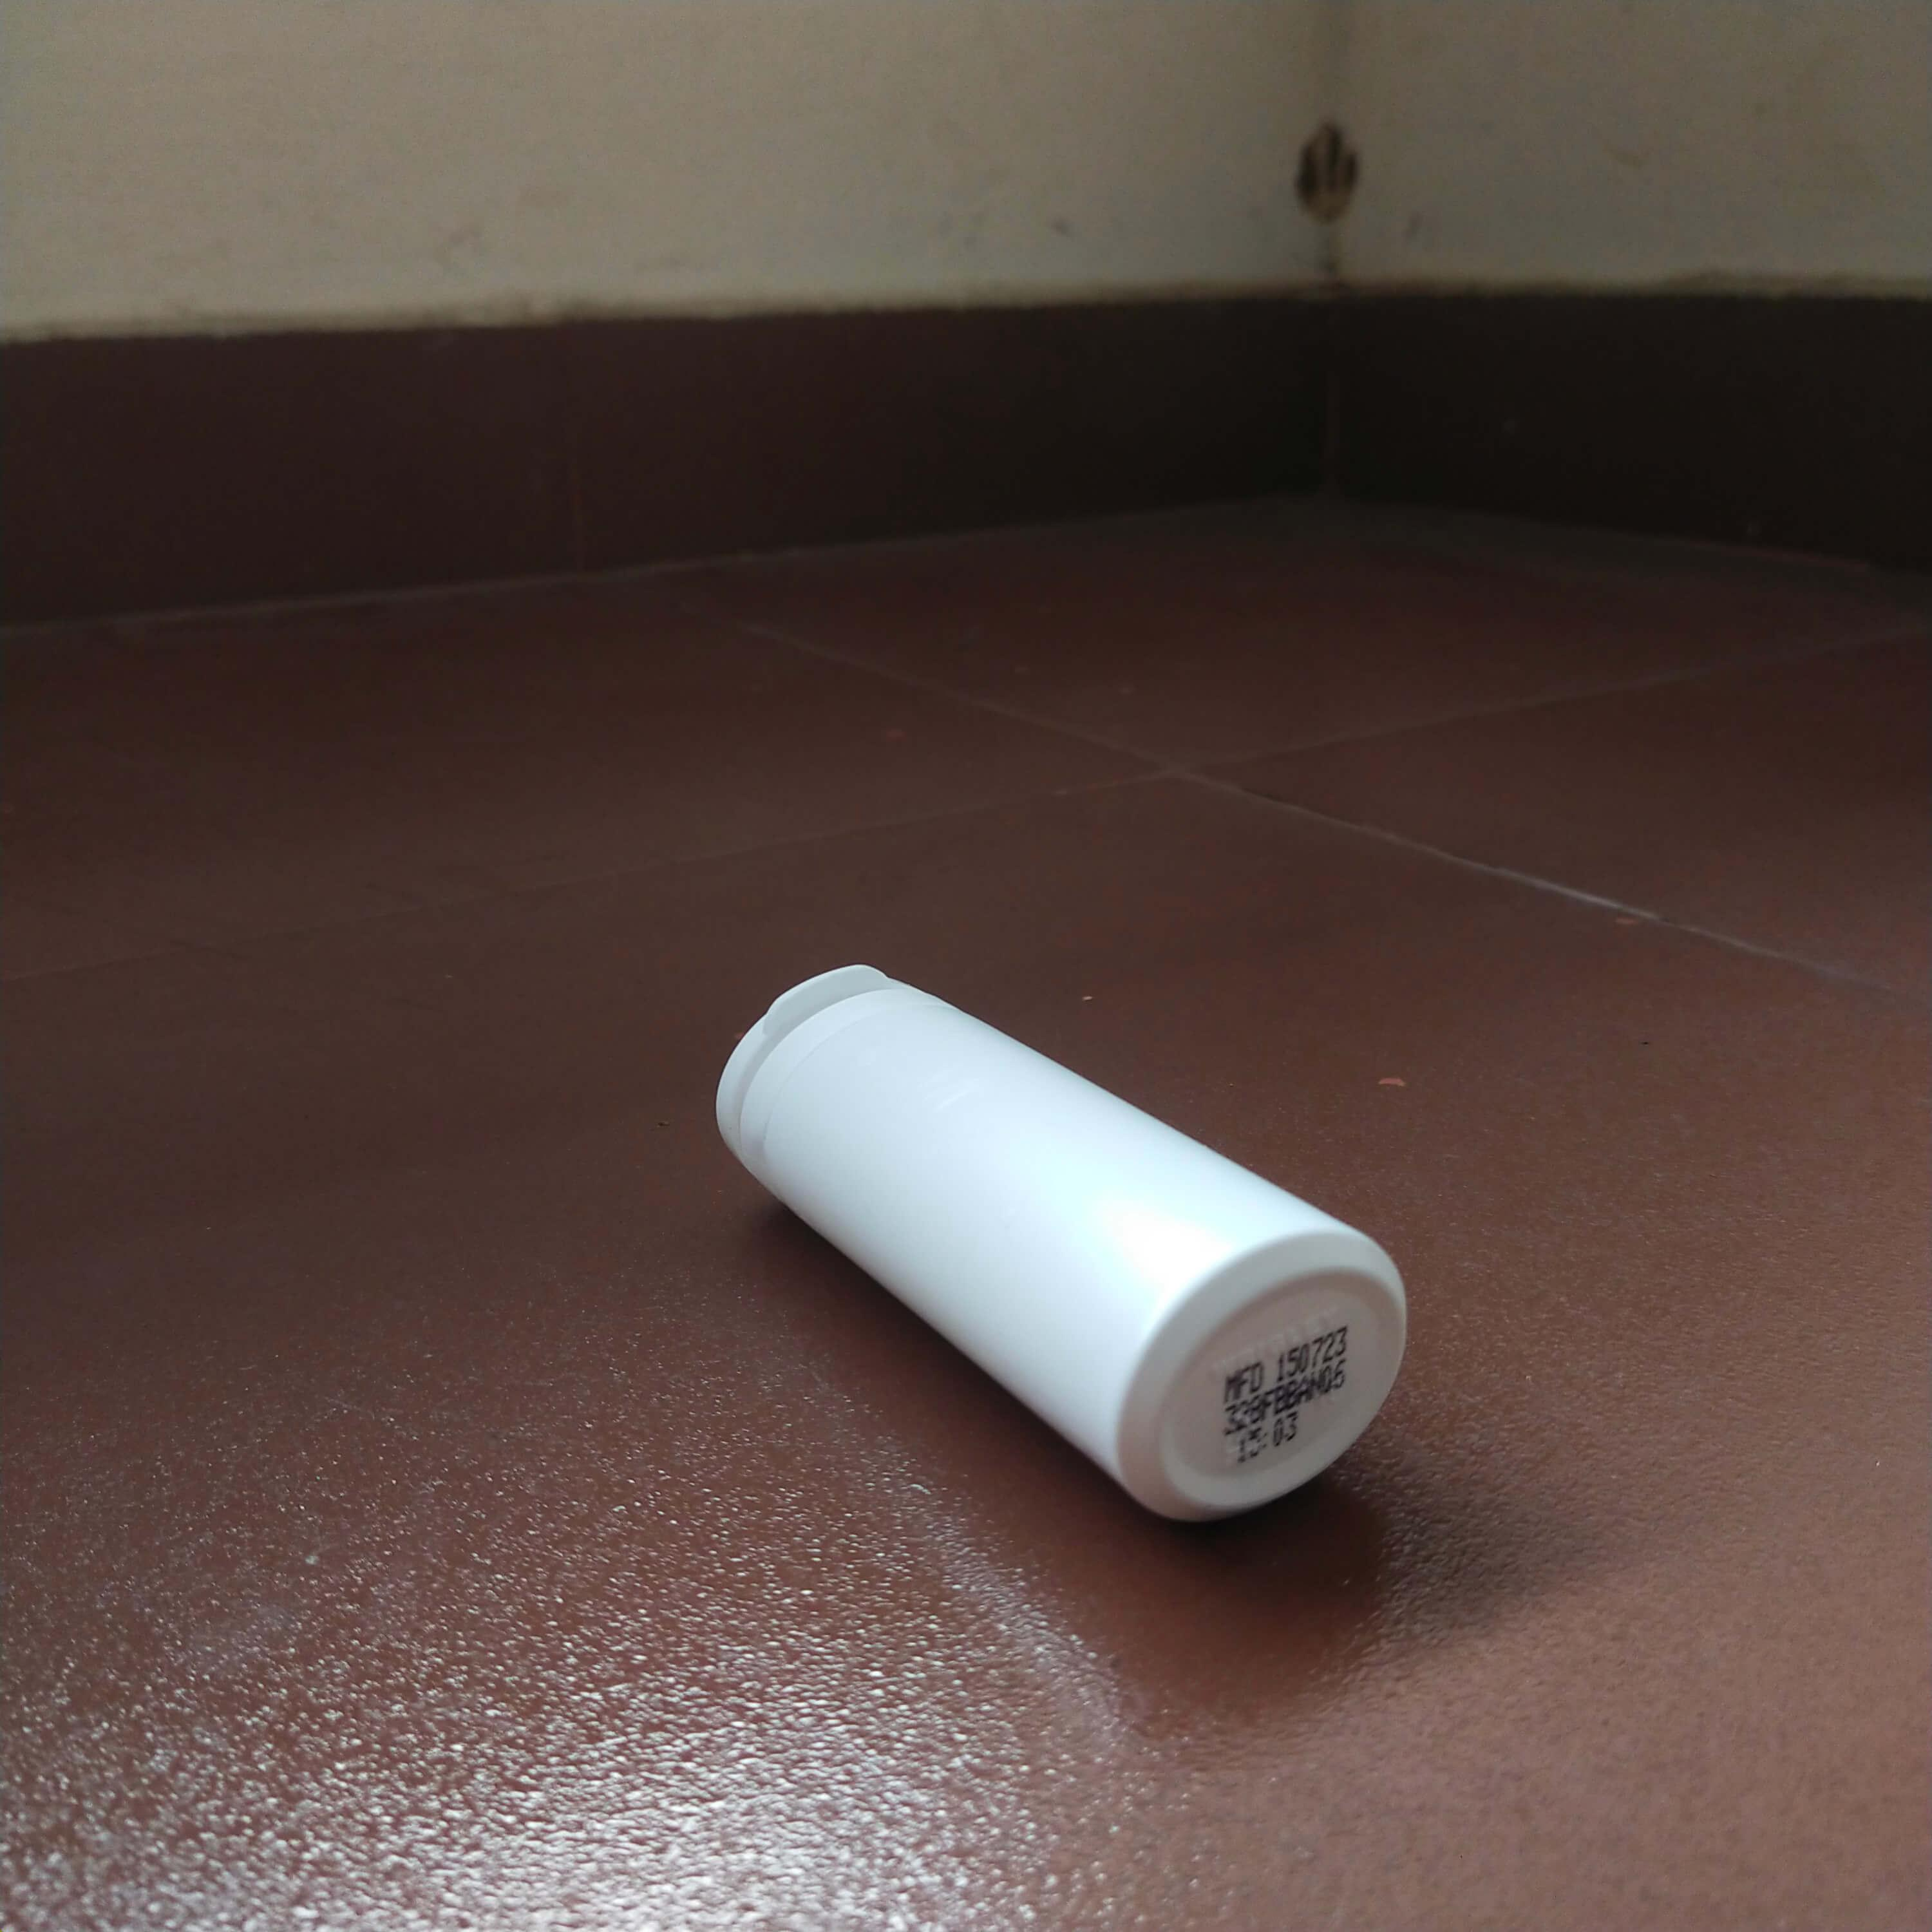plastic box: (667, 922, 1438, 1555)
